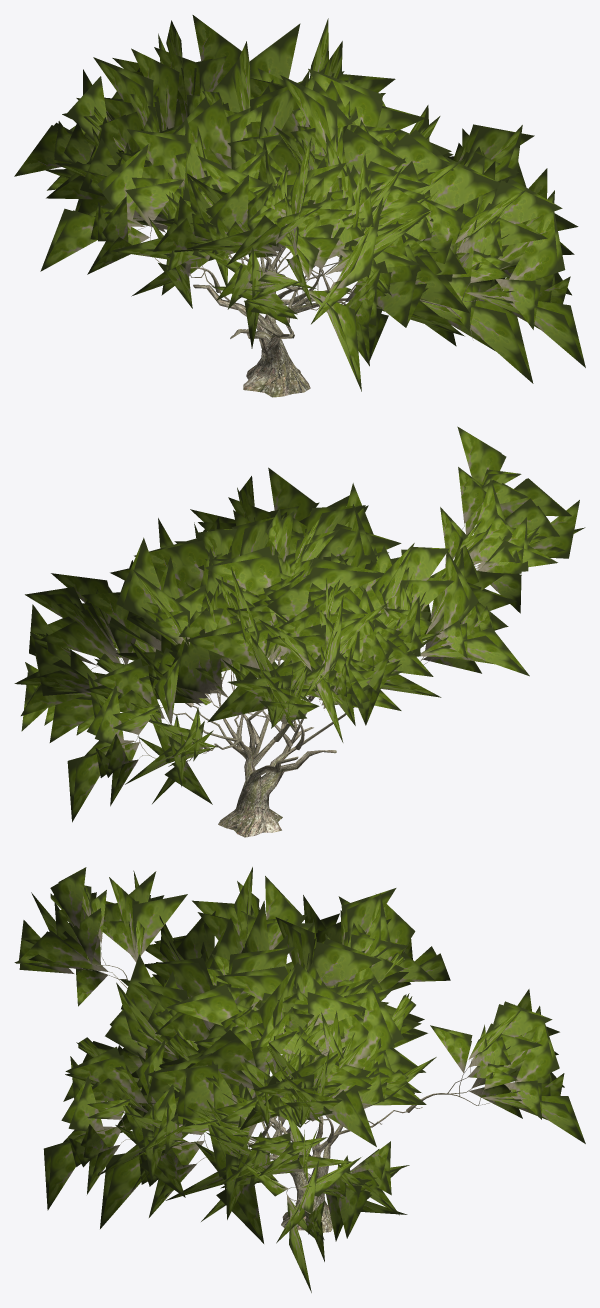
File: bush3.obj
3 views of the same model, one above another, from view 1: azimuth 30°, elevation 25°; view 2: azimuth 150°, elevation 25°; view 3: azimuth 270°, elevation 25° (orthographic). The views are drawn at different scales.
Visible parts, largest first — view 1: oak leaf, mossybark03; view 2: oak leaf, mossybark03; view 3: oak leaf, mossybark03.
Part boxes in pixels (<box>): oak leaf: <box>14,15,585,391</box>; mossybark03: <box>128,152,508,397</box>; oak leaf: <box>14,426,585,822</box>; mossybark03: <box>91,518,478,837</box>; oak leaf: <box>14,867,585,1292</box>; mossybark03: <box>79,931,511,1232</box>.
Size of the model in its own units: 369 by 245 by 404.
Materials: 2 (2 with a texture image).
